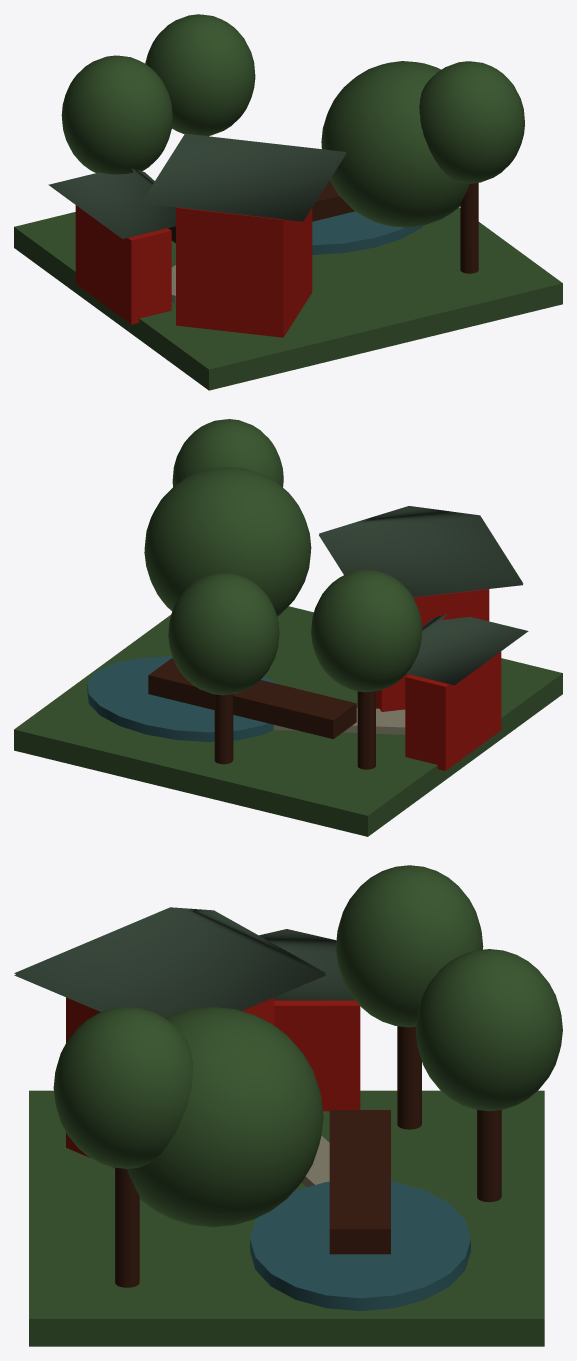
File: ZhuolongGarden.fbx
3 renders of one model, top to bottom at view 1: azimuth 30°, elevation 25°; view 2: azimuth 150°, elevation 25°; view 3: azimuth 270°, elevation 25°, orthographic. The views are drawn at different scales.
Visible parts, largest first — view 1: garden_ground, garden_canopy, pavilion_body, pavilion_roof, tree_e_canopy, tree_nw_canopy, tree_s_canopy, east_gate, east_gate_roof, pond, tree_nw_trunk, pond_bridge; view 2: garden_ground, garden_canopy, pavilion_roof, tree_e_canopy, tree_s_canopy, east_gate, pond, pond_bridge, east_gate_roof, tree_nw_canopy, pavilion_body, pavilion_roof_2 (+3 smaller); view 3: garden_ground, garden_canopy, pavilion_roof, tree_s_canopy, pond, tree_nw_canopy, tree_e_canopy, pond_bridge, east_gate, east_gate_roof, tree_nw_trunk, tree_e_trunk (+4 smaller).
Boxes of the visible parts, x1=… form: garden_ground: x1=14, y1=207, x2=562, y2=390; garden_canopy: x1=321, y1=61, x2=469, y2=227; pavilion_body: x1=176, y1=207, x2=312, y2=337; pavilion_roof: x1=142, y1=133, x2=346, y2=219; tree_e_canopy: x1=61, y1=55, x2=172, y2=174; tree_nw_canopy: x1=419, y1=61, x2=524, y2=183; tree_s_canopy: x1=145, y1=14, x2=255, y2=135; east_gate: x1=75, y1=205, x2=171, y2=324; east_gate_roof: x1=48, y1=168, x2=175, y2=238; pond: x1=312, y1=211, x2=423, y2=254; tree_nw_trunk: x1=460, y1=183, x2=478, y2=273; pond_bridge: x1=168, y1=180, x2=354, y2=243; garden_ground: x1=14, y1=606, x2=562, y2=836; garden_canopy: x1=144, y1=467, x2=311, y2=616; pavilion_roof: x1=319, y1=506, x2=523, y2=595; tree_e_canopy: x1=311, y1=569, x2=422, y2=692; tree_s_canopy: x1=168, y1=572, x2=279, y2=695; east_gate: x1=405, y1=651, x2=501, y2=770; pond: x1=87, y1=656, x2=276, y2=741; pond_bridge: x1=148, y1=658, x2=356, y2=739; east_gate_roof: x1=406, y1=614, x2=528, y2=685; tree_nw_canopy: x1=172, y1=419, x2=283, y2=487; pavilion_body: x1=376, y1=589, x2=489, y2=711; pavilion_roof_2: x1=319, y1=507, x2=522, y2=597; garden_ground: x1=29, y1=1090, x2=544, y2=1346; garden_canopy: x1=127, y1=1007, x2=323, y2=1227; pavilion_roof: x1=14, y1=907, x2=325, y2=1018; tree_s_canopy: x1=415, y1=949, x2=562, y2=1111; pond: x1=250, y1=1181, x2=470, y2=1310; tree_nw_canopy: x1=53, y1=1006, x2=193, y2=1168; tree_e_canopy: x1=336, y1=865, x2=483, y2=1027; pond_bridge: x1=329, y1=1110, x2=390, y2=1254; east_gate: x1=274, y1=1000, x2=360, y2=1111; east_gate_roof: x1=259, y1=929, x2=355, y2=1000; tree_nw_trunk: x1=115, y1=1167, x2=139, y2=1287; tree_e_trunk: x1=397, y1=1026, x2=421, y2=1129.
Size of the model in its own units: 94.5 by 53.5 by 89.46.
